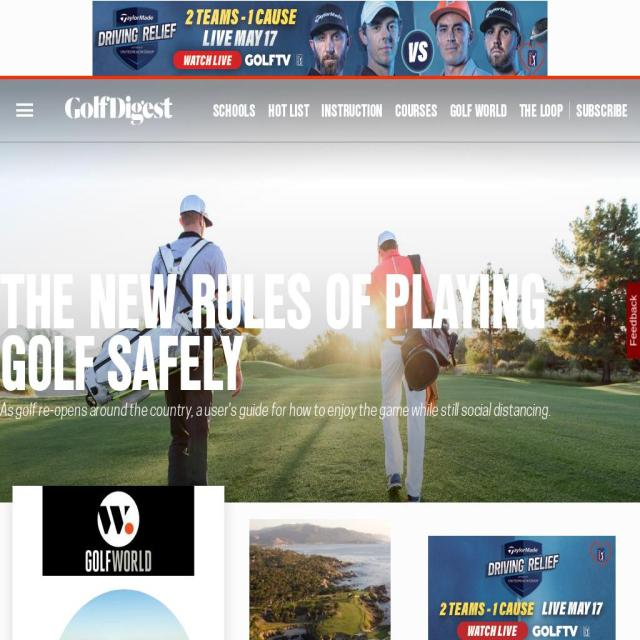button: (0, 268, 640, 392), (249, 519, 391, 640), (49, 589, 200, 640), (65, 95, 173, 126)
iframe: (92, 1, 548, 76), (428, 536, 616, 640)
image: (0, 76, 640, 640), (249, 519, 391, 640), (49, 589, 200, 640), (65, 95, 173, 126)
link: (321, 98, 383, 122), (449, 98, 507, 122), (519, 98, 563, 122), (212, 98, 255, 122), (395, 98, 438, 122), (268, 98, 310, 122), (576, 102, 628, 119)
text: (0, 400, 551, 420), (626, 282, 640, 358)
